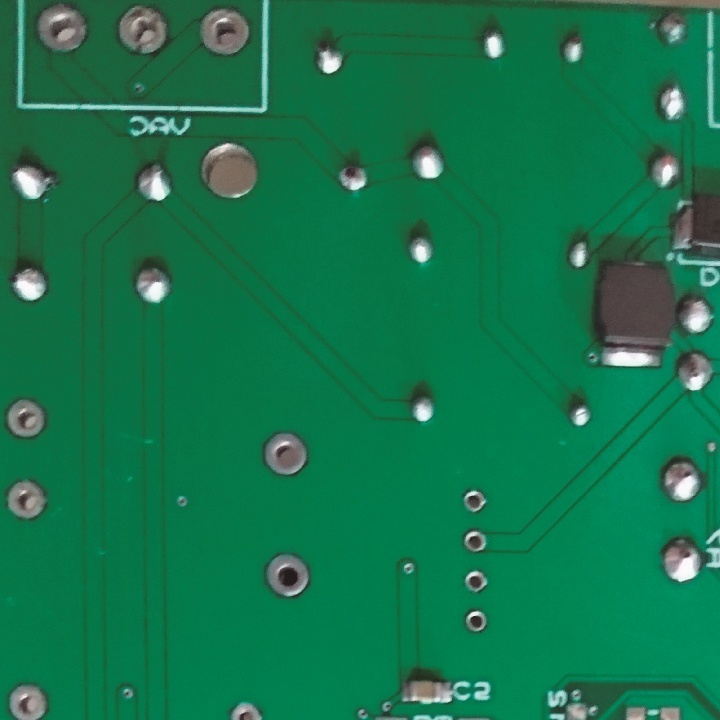F: (31, 3, 90, 57), (115, 2, 171, 58), (199, 7, 254, 57), (263, 549, 312, 599), (260, 427, 307, 477), (2, 399, 53, 440), (3, 479, 50, 523), (7, 680, 53, 720), (460, 486, 487, 517), (462, 568, 491, 595), (227, 699, 264, 720), (461, 527, 487, 555), (463, 606, 487, 634)
